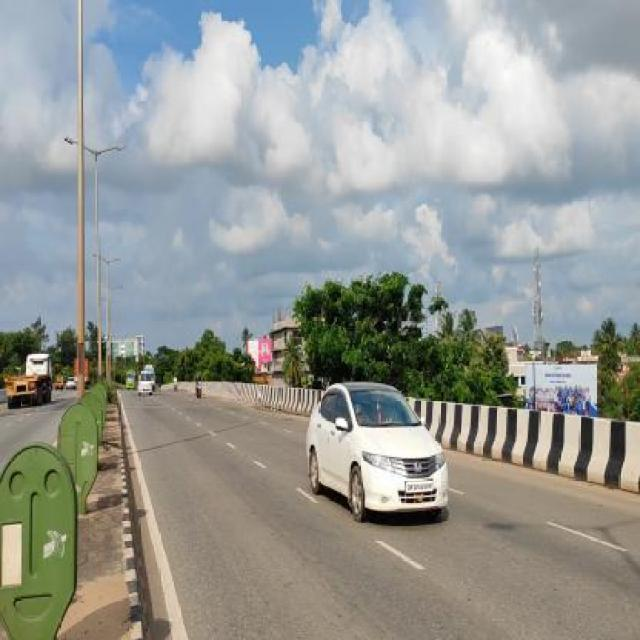vehicle: (303, 378, 453, 532), (6, 346, 57, 404), (123, 364, 137, 392), (138, 368, 152, 394)
